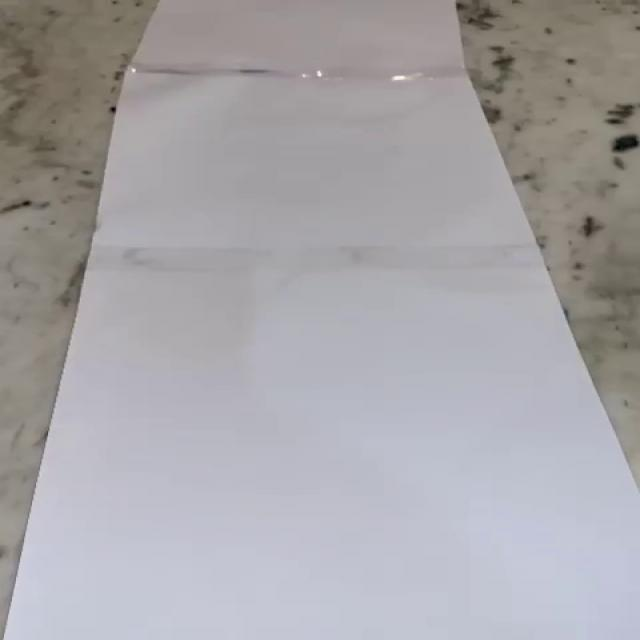road: (6, 0, 636, 640)
